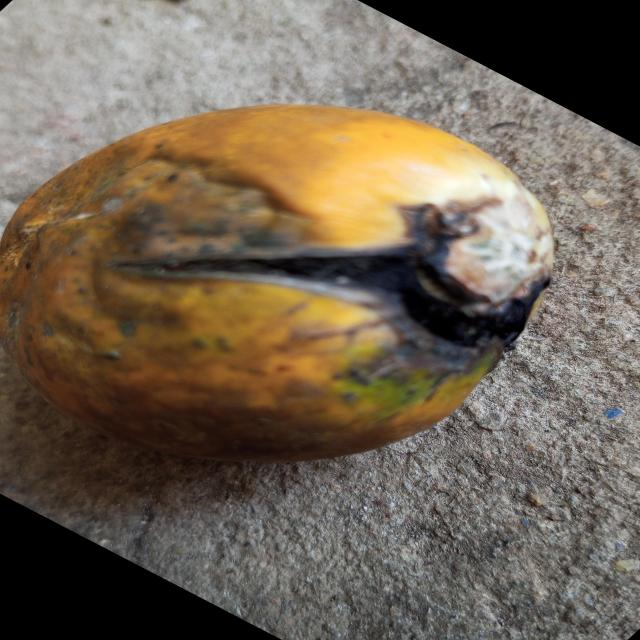damaged: (0, 104, 556, 465)
